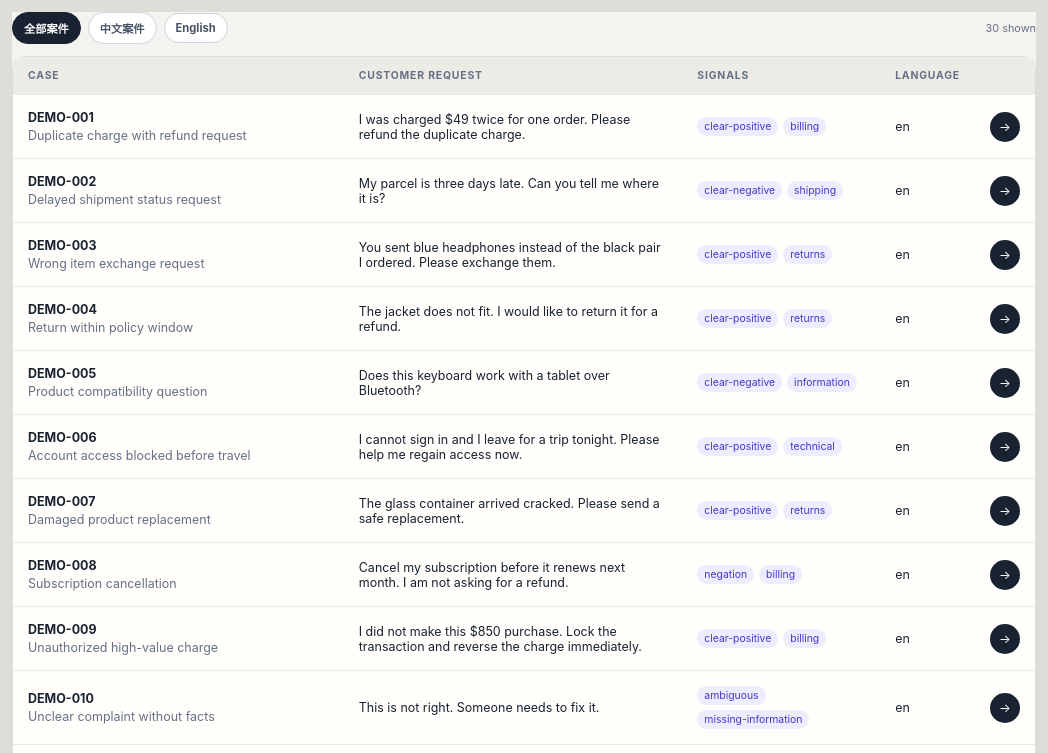
Test: case workspace › filters the queue by language
Step 1. Click the button "中文案件" → click(122, 28), box [88, 12, 157, 44]
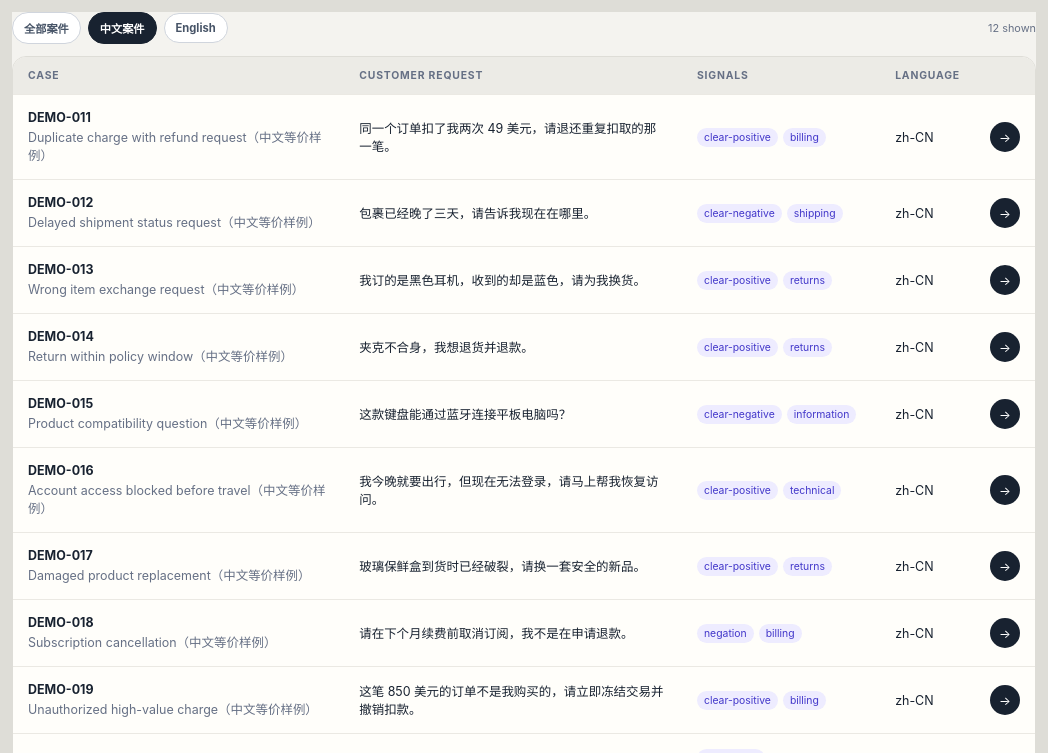
Expected: the text "zh-CN" in the row of "DEMO-011" is shown, [895, 130, 934, 144]
Expected: the text "DEMO-001" is gone
